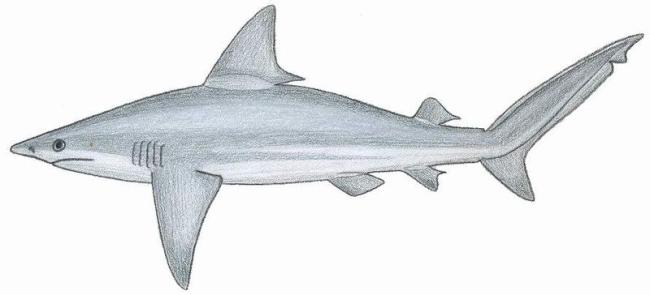fish: (10, 6, 645, 291)
